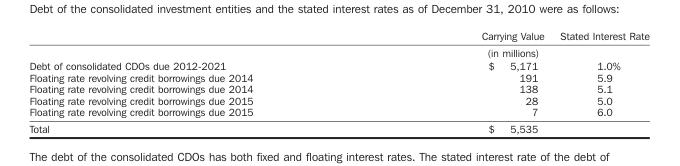table: (28, 29, 648, 134)
table column: (28, 29, 366, 134), (366, 29, 551, 134), (551, 29, 648, 134)
table column header: (28, 29, 648, 58)
table row: (28, 29, 648, 58), (28, 105, 648, 120), (28, 120, 648, 134), (28, 58, 648, 70), (28, 70, 648, 82), (28, 82, 648, 94), (28, 94, 648, 105)
